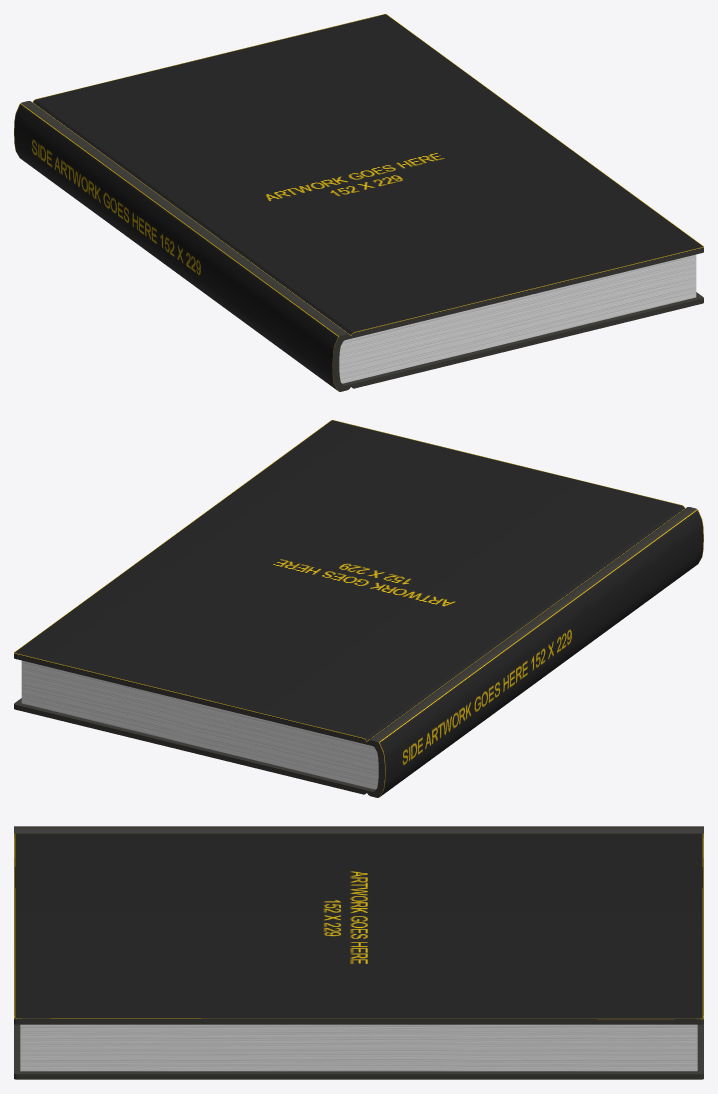
Rendered from Book_XL.gltf.
3 renders of one model, top to bottom at view 1: azimuth 30°, elevation 25°; view 2: azimuth 150°, elevation 25°; view 3: azimuth 270°, elevation 25°, orthographic. The views are drawn at different scales.
Parts seen in each view (by area): view 1: Book_152x229; view 2: Book_152x229; view 3: Book_152x229.
Part boxes in pixels (x1,y1,x2,y2): Book_152x229: (14,14,703,391); Book_152x229: (14,420,703,797); Book_152x229: (14,826,703,1079).
Bounding box in the file's own units: 0.1572 × 0.0226 × 0.2333.
4 materials, 4 textured.
